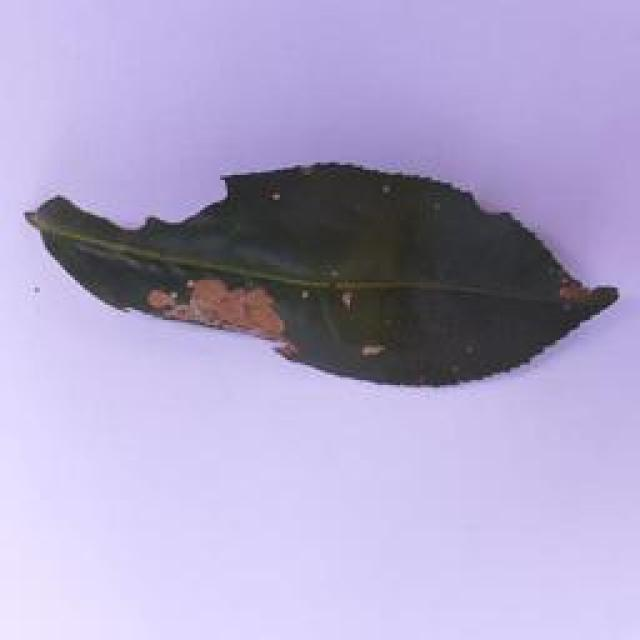Gray Blight: (27, 158, 620, 391)
